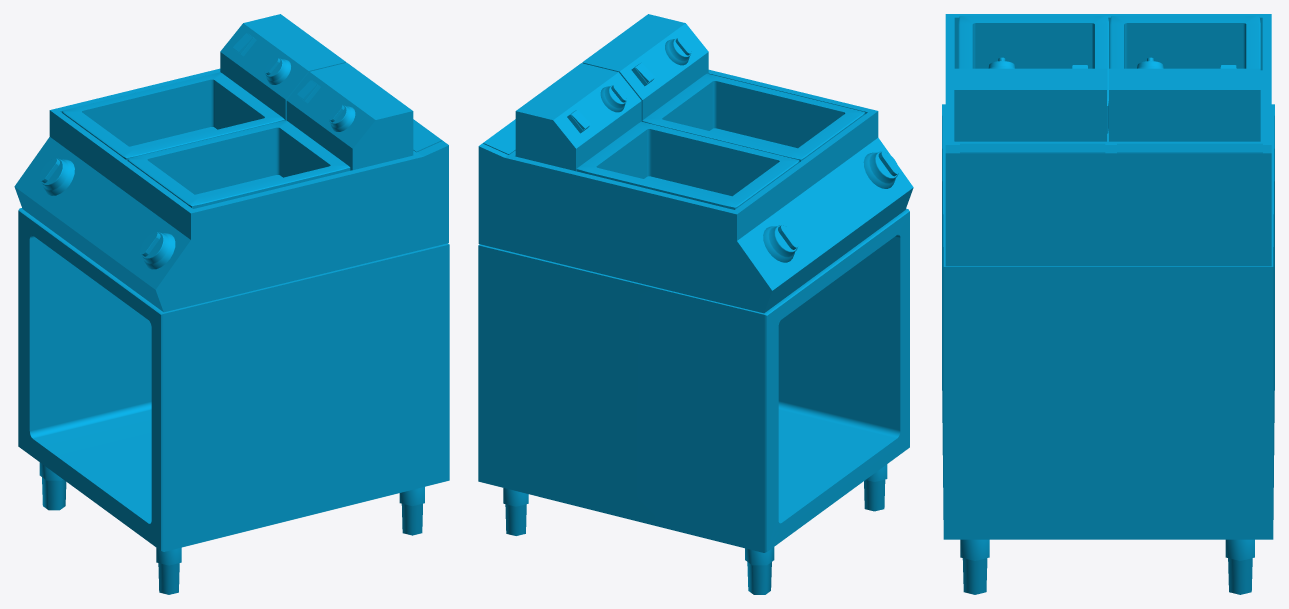
The model's file is Restaurant_Electric_Fryer_Lod1.fbx.
3 renders of one model, left to right at view 1: azimuth 30°, elevation 25°; view 2: azimuth 150°, elevation 25°; view 3: azimuth 270°, elevation 25°, orthographic. The views are drawn at different scales.
Visible parts, largest first — view 1: Restaurant_Electric_Fryer_Lod1; view 2: Restaurant_Electric_Fryer_Lod1; view 3: Restaurant_Electric_Fryer_Lod1.
Part boxes in pixels (left/top/right/bottom): Restaurant_Electric_Fryer_Lod1: left=14, top=14, right=449, bottom=594; Restaurant_Electric_Fryer_Lod1: left=478, top=14, right=913, bottom=594; Restaurant_Electric_Fryer_Lod1: left=942, top=14, right=1274, bottom=594.
Size of the model in its own units: 69.61 by 97.85 by 59.19.
